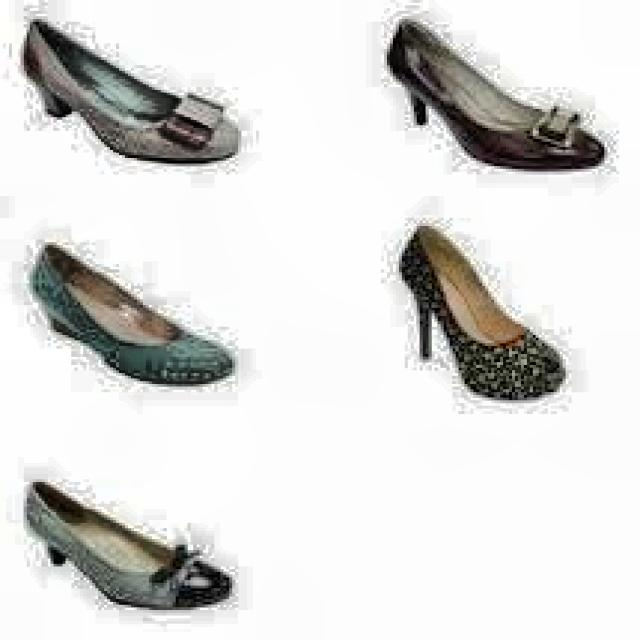shoes: (6, 12, 613, 616)
